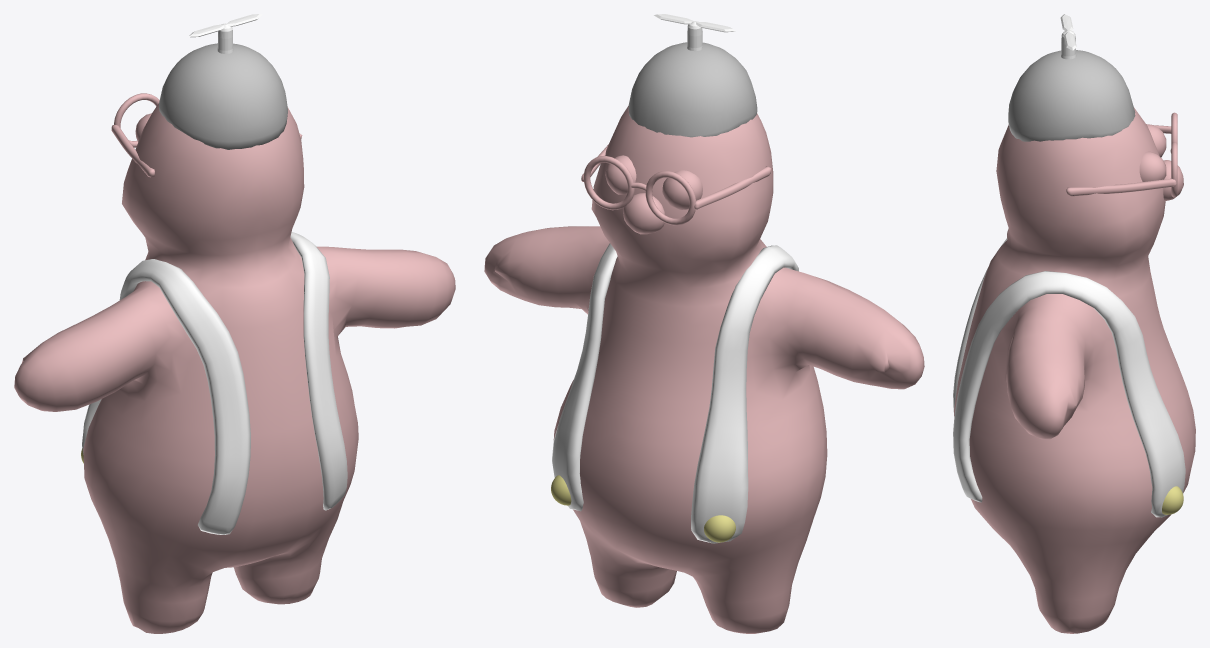
Rendered from Step Child.fbx.
3 renders of one model, left to right at view 1: azimuth 30°, elevation 25°; view 2: azimuth 150°, elevation 25°; view 3: azimuth 270°, elevation 25°, orthographic. The views are drawn at different scales.
Visible parts, largest first — view 1: PM3D_Cylinder3D_9; view 2: PM3D_Cylinder3D_9; view 3: PM3D_Cylinder3D_9.
Boxes of the visible parts, x1,y1,x2,y2 form: PM3D_Cylinder3D_9: (14,14,455,633); PM3D_Cylinder3D_9: (484,14,924,633); PM3D_Cylinder3D_9: (953,14,1195,633).
Bounding box in the file's own units: 354 × 459 × 177.
